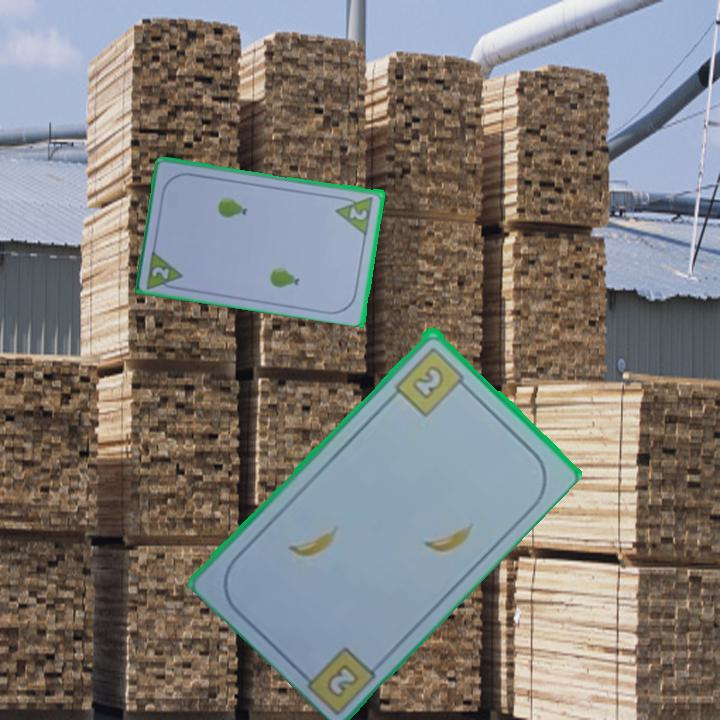2b: (391, 342, 472, 419), (322, 659, 362, 700)
2p: (143, 246, 187, 293), (333, 192, 376, 236)
